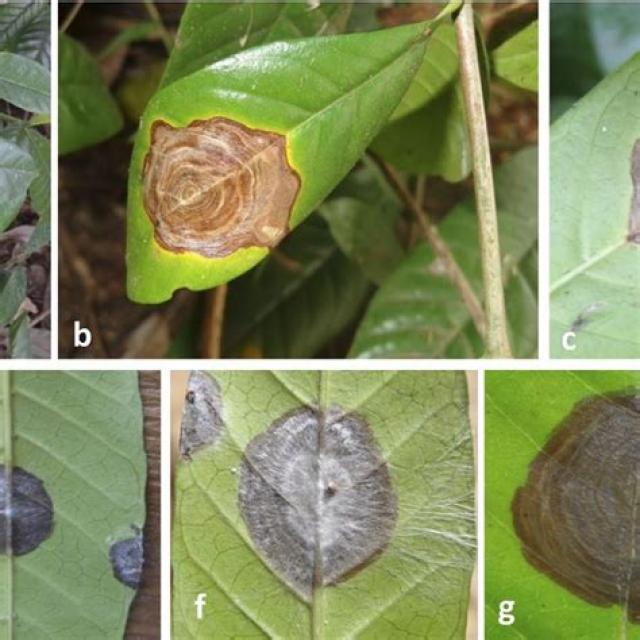blight: (135, 100, 312, 264)
